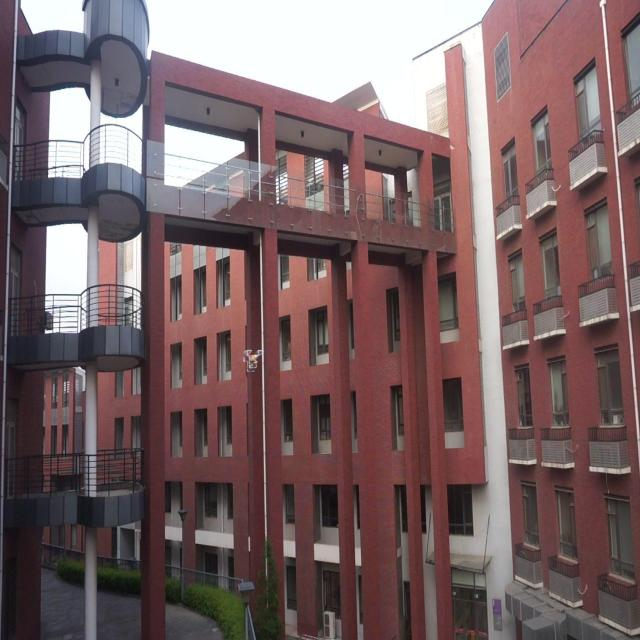drone: (242, 345, 264, 375)
